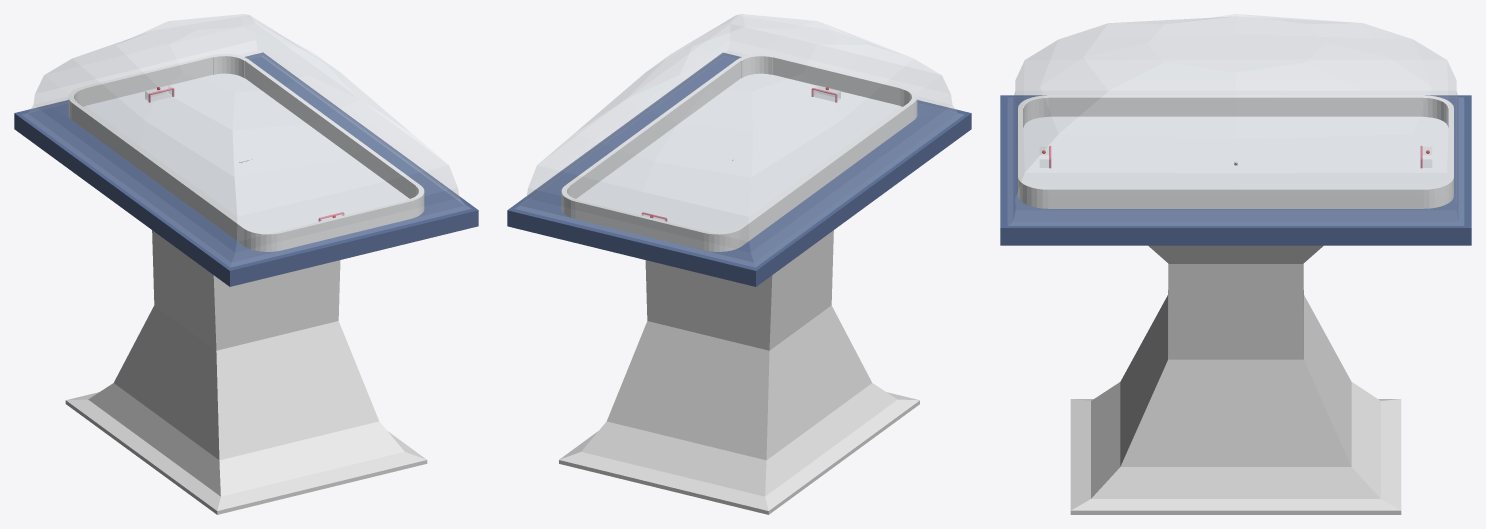
File: arena_classic.glb
The picture shows the model from 3 angles, left to right: view 1: azimuth 30°, elevation 25°; view 2: azimuth 150°, elevation 25°; view 3: azimuth 270°, elevation 25°; orthographic projection. The views are drawn at different scales.
Parts seen in each view (by area): view 1: glass_dome, cabinet, rink_surface, table_top, boards; view 2: glass_dome, cabinet, rink_surface, table_top, boards; view 3: glass_dome, cabinet, rink_surface, table_top, boards.
Part boxes in pixels (x1,y1,x2,y2): glass_dome: [23, 14, 470, 266]; cabinet: [65, 230, 427, 514]; rink_surface: [83, 73, 409, 232]; table_top: [14, 52, 478, 286]; boards: [68, 54, 424, 251]; glass_dome: [515, 14, 962, 266]; cabinet: [559, 230, 919, 514]; rink_surface: [576, 73, 902, 232]; table_top: [507, 52, 971, 286]; boards: [561, 54, 917, 251]; glass_dome: [1008, 14, 1463, 225]; cabinet: [1070, 245, 1401, 514]; rink_surface: [1023, 116, 1448, 187]; table_top: [1000, 95, 1471, 245]; boards: [1018, 95, 1453, 208].
Bounding box in the file's own units: 0.914 × 1.33 × 1.37.
